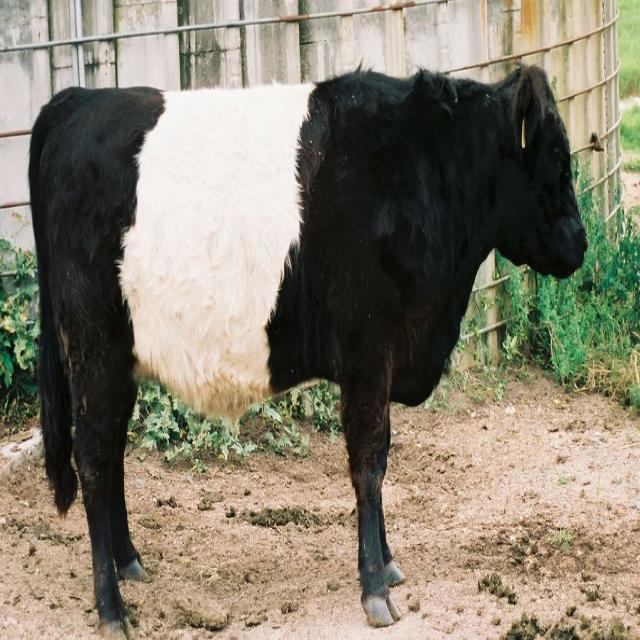Cattle: (9, 32, 529, 624)
